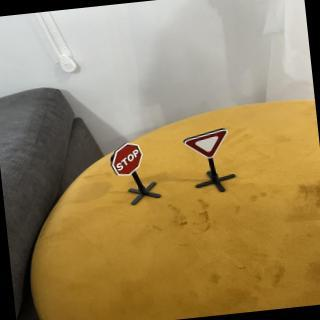sign_stop: (109, 141, 147, 179)
sign_yield: (182, 129, 235, 163)
